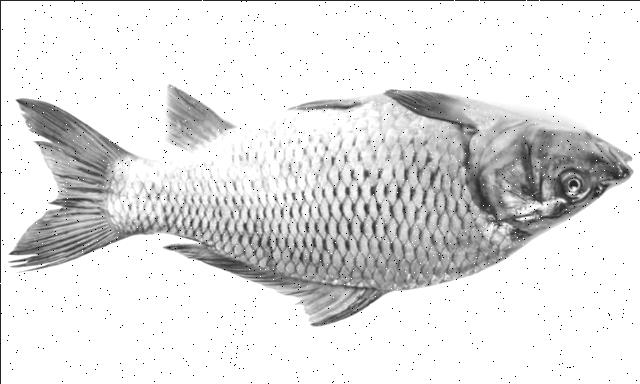Mulut: (596, 119, 640, 201)
Sirip Anal: (139, 66, 245, 162)
Sirip Dada: (374, 72, 496, 140)
Sirip Ekor: (0, 87, 134, 281)
Sirip Perut: (277, 78, 368, 124)
Sirip Punggung: (146, 225, 398, 334)
